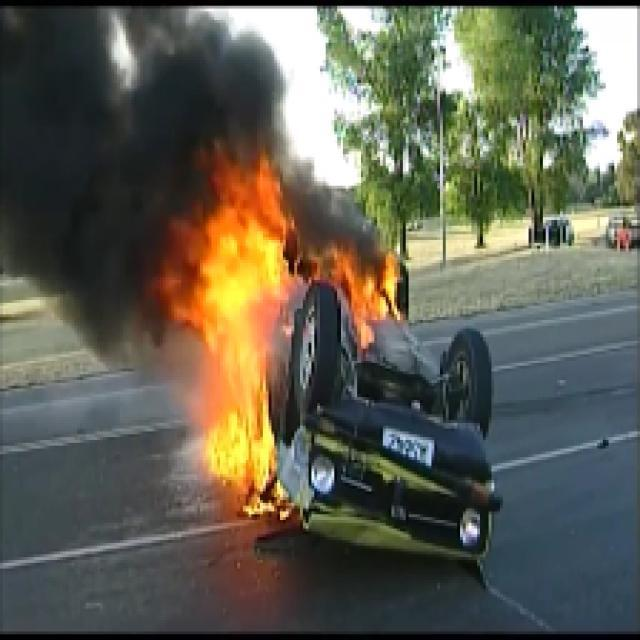Fire: (165, 146, 288, 494), (303, 252, 400, 348)
Smoke: (3, 3, 180, 340)
